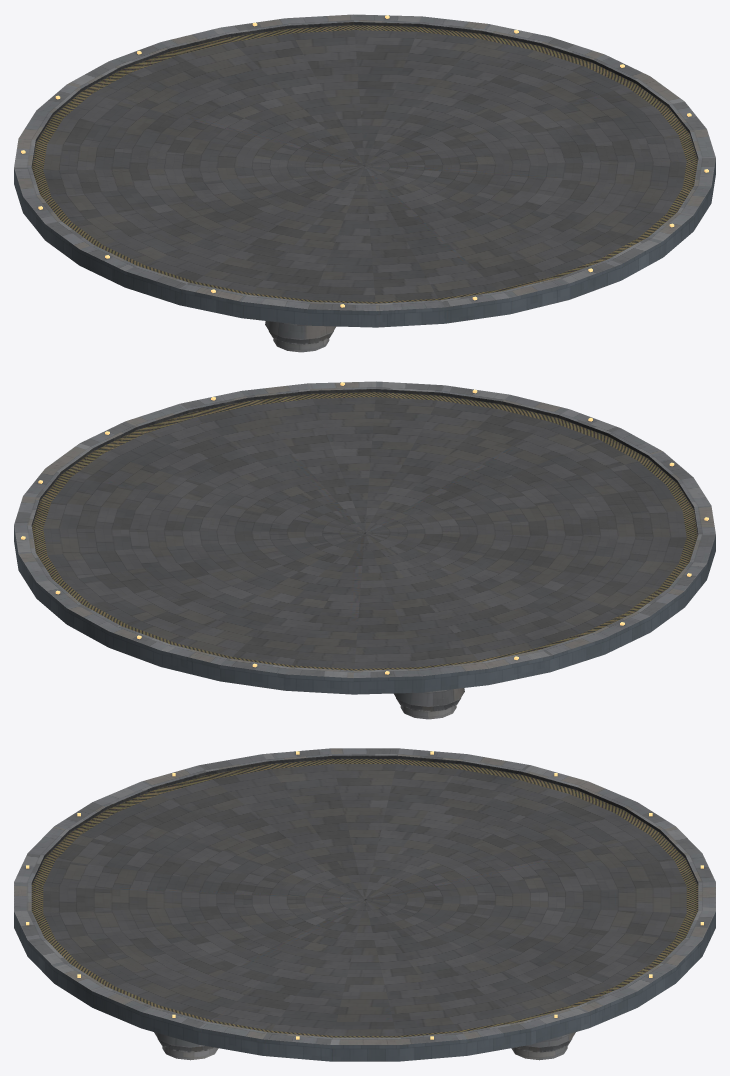
The model's file is platform.glb.
3 views of the same model, one above another, from view 1: azimuth 30°, elevation 25°; view 2: azimuth 150°, elevation 25°; view 3: azimuth 270°, elevation 25° (orthographic).
Parts seen in each view (by area): view 1: platform_hull; view 2: platform_hull; view 3: platform_hull.
Part boxes in pixels (x1,y1,x2,y2): platform_hull: (14, 14, 715, 352); platform_hull: (14, 381, 715, 719); platform_hull: (14, 748, 715, 1061).
Bounding box in the file's own units: 119 × 15.03 × 119.
3 materials, 1 textured.
